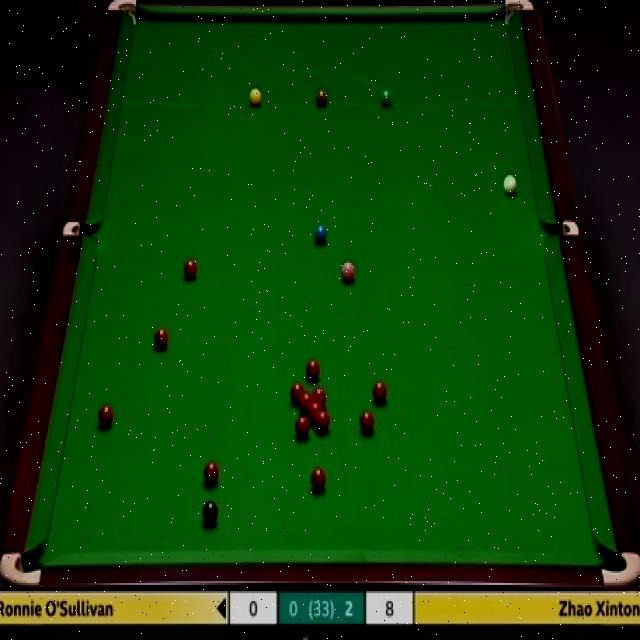black-ball: (202, 500, 220, 523)
blue-ball: (314, 222, 328, 248)
brown-ball: (315, 87, 328, 107)
green-ball: (380, 88, 393, 107)
pink-ball: (341, 263, 356, 285)
red-ball: (153, 323, 171, 355), (95, 401, 113, 428), (310, 466, 328, 493), (358, 410, 376, 435), (289, 380, 306, 405), (203, 460, 220, 485), (304, 358, 322, 381), (314, 412, 331, 435), (295, 414, 310, 439), (371, 381, 388, 403), (312, 388, 328, 411), (299, 393, 315, 415), (183, 261, 198, 279), (308, 403, 322, 421)
white-ball: (503, 173, 517, 197)
yellow-ball: (248, 87, 262, 107)
